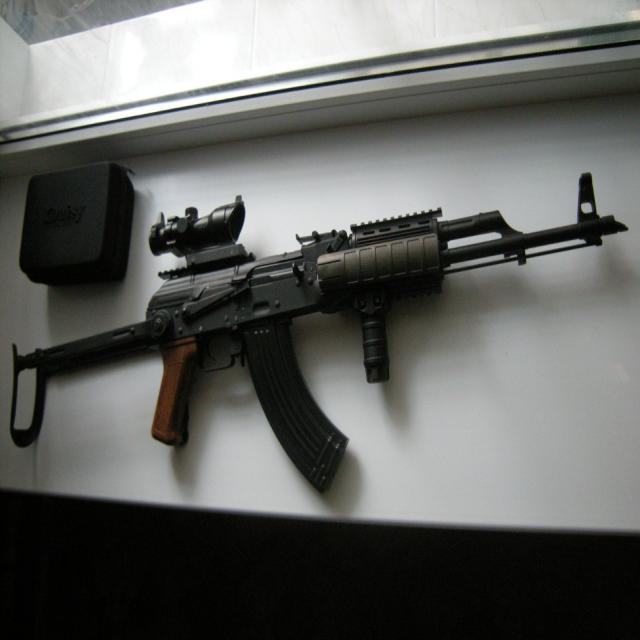firearm: (6, 168, 628, 500)
